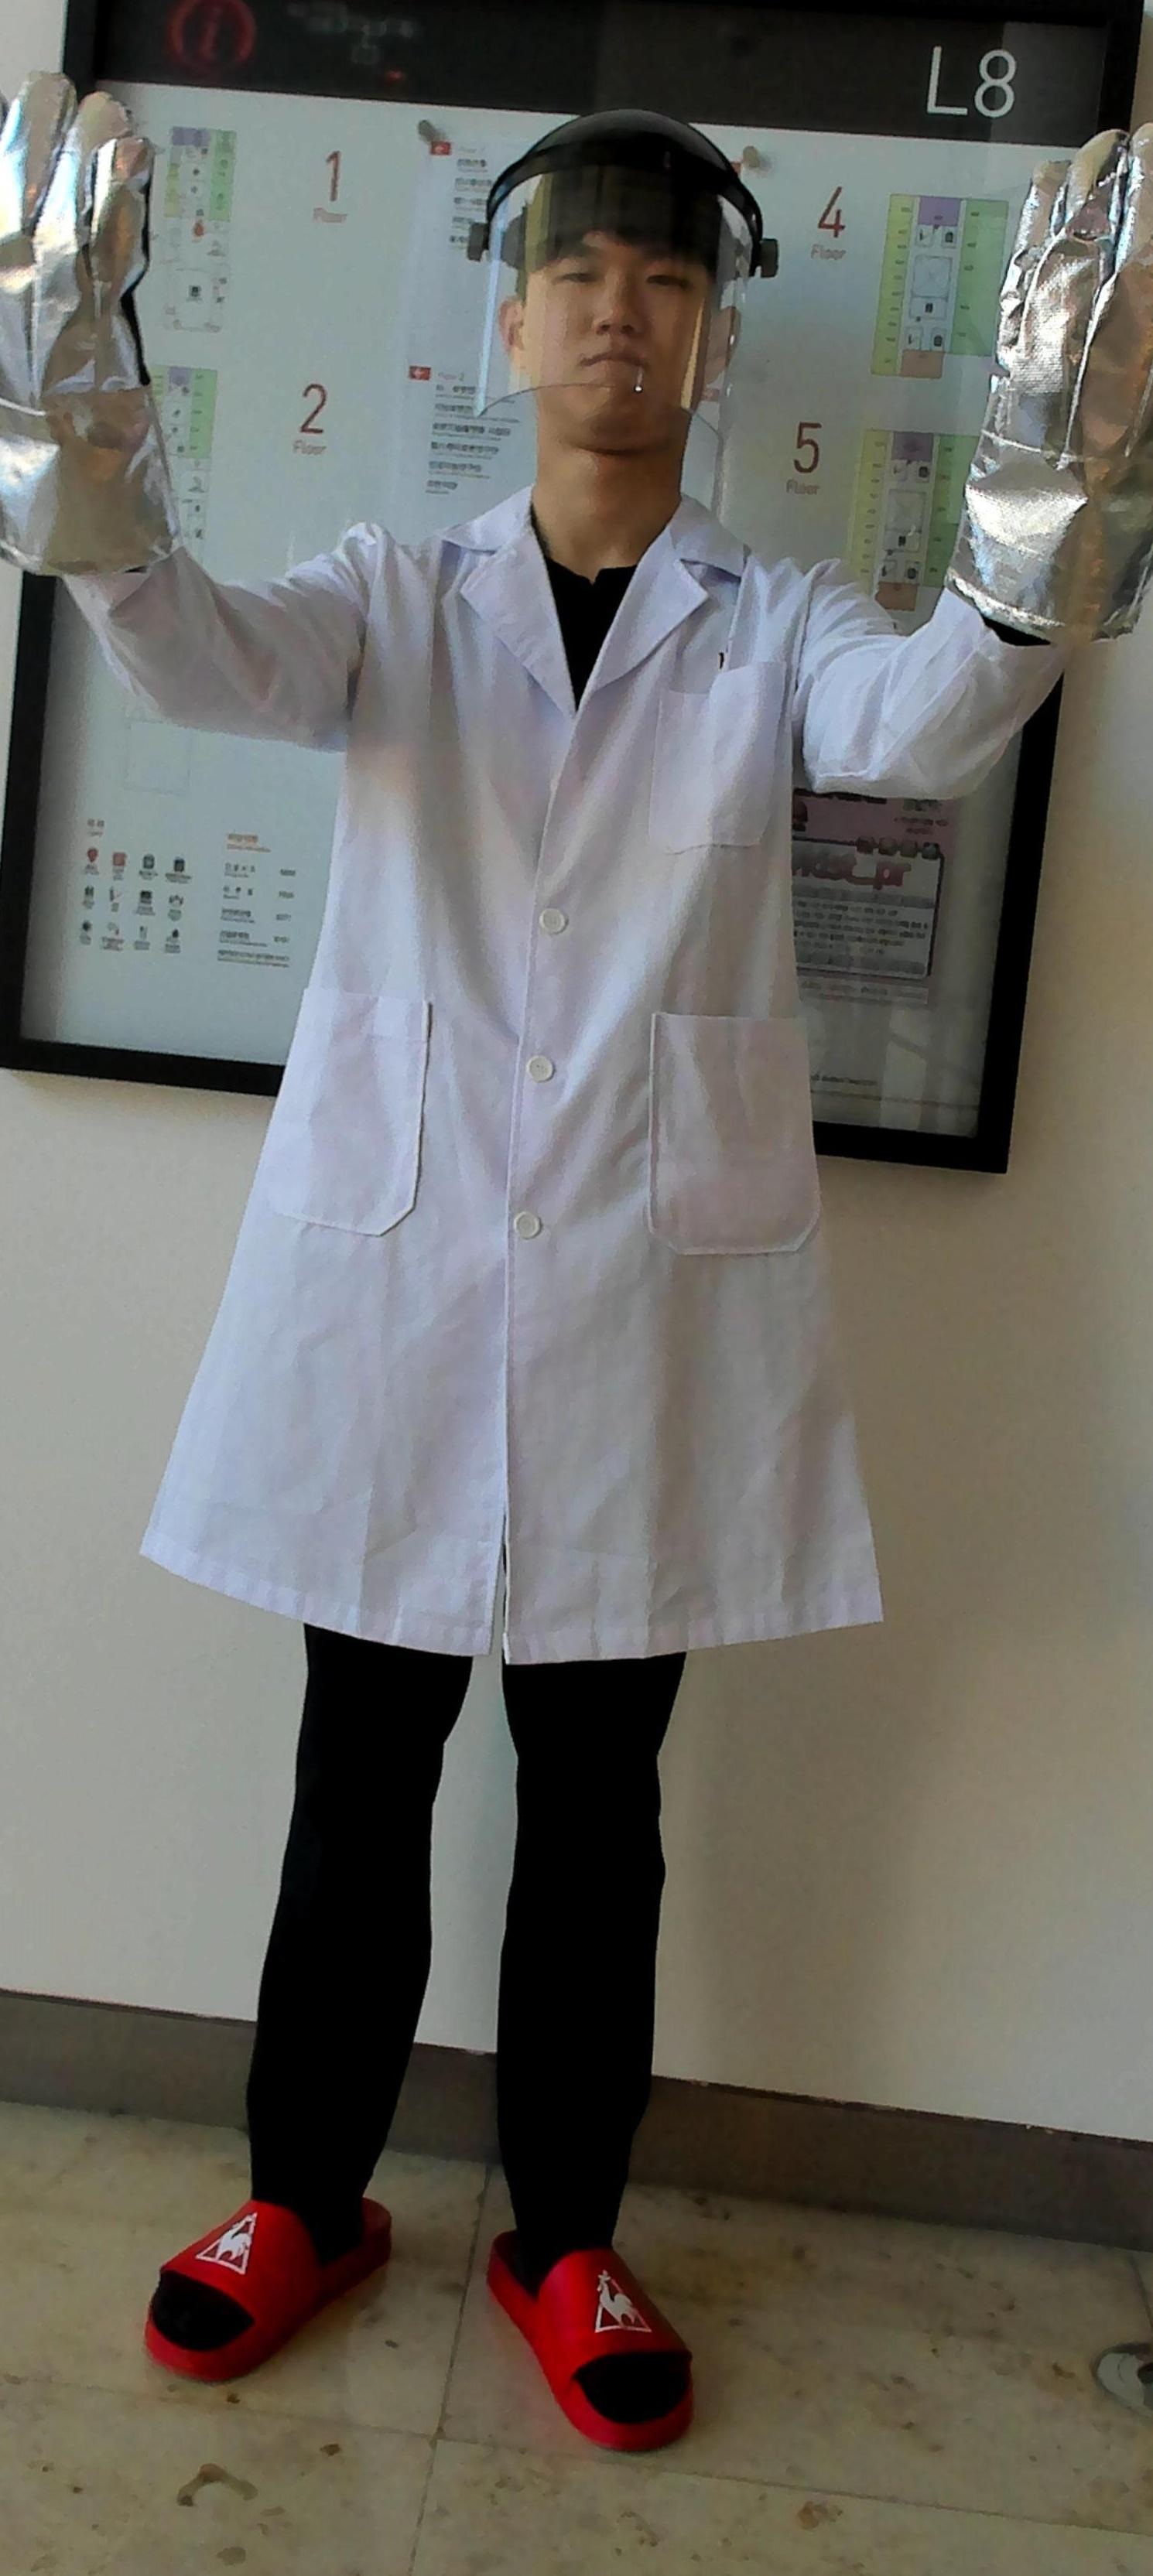lab_coat: (212, 636, 861, 1643)
